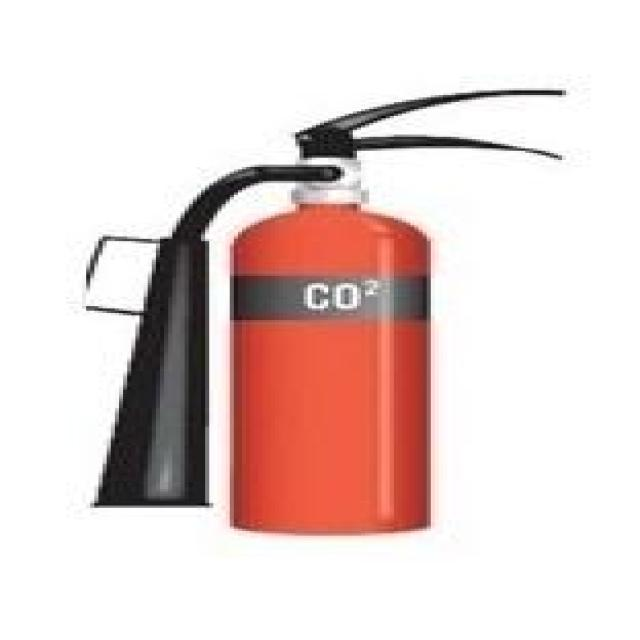fire_extinguisher: (66, 86, 570, 540)
